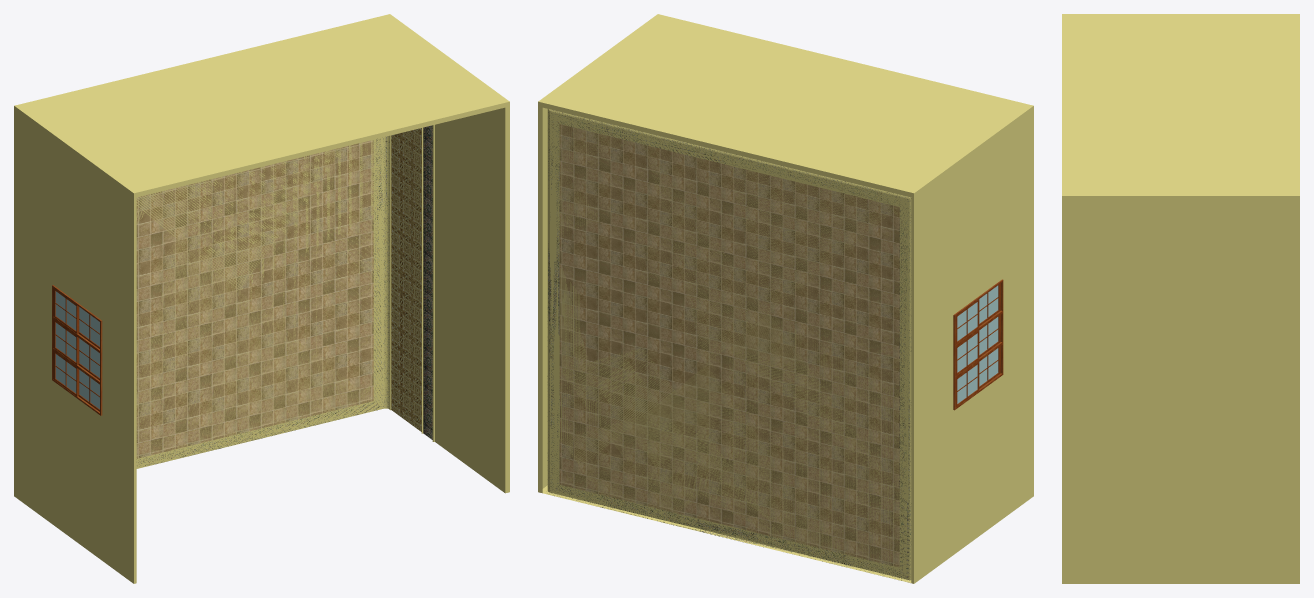
The model's file is room00.obj.
3 renders of one model, left to right at view 1: azimuth 30°, elevation 25°; view 2: azimuth 150°, elevation 25°; view 3: azimuth 270°, elevation 25°, orthographic.
Visible parts, largest first — view 1: room00; view 2: room00; view 3: room00.
Boxes of the visible parts, x1,y1,x2,y2 form: room00: (14, 14, 509, 583); room00: (538, 14, 1033, 583); room00: (1062, 14, 1299, 583).
Size of the model in its own units: 246 by 243 by 135.
Materials: 50 (19 with a texture image).
